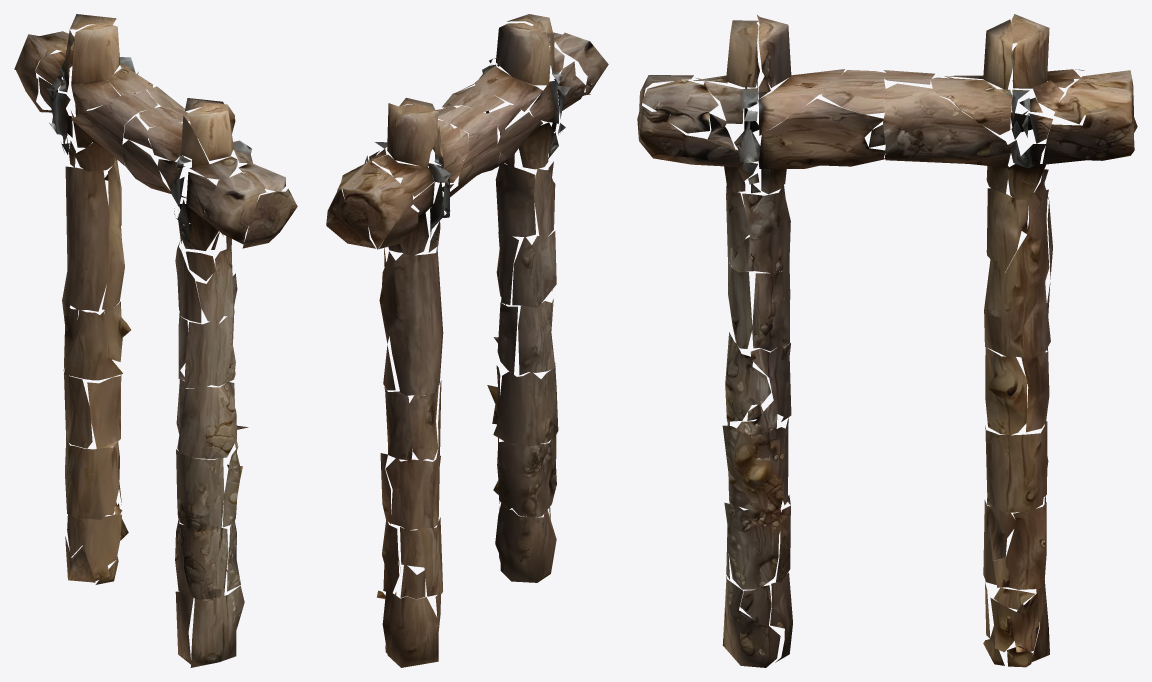
The model's file is timber.glb.
3 renders of one model, left to right at view 1: azimuth 30°, elevation 25°; view 2: azimuth 150°, elevation 25°; view 3: azimuth 270°, elevation 25°, orthographic. The views are drawn at different scales.
Visible parts, largest first — view 1: tripo_node_9f6a87ca-5507-40c1-9f33-aec29827bc2f; view 2: tripo_node_9f6a87ca-5507-40c1-9f33-aec29827bc2f; view 3: tripo_node_9f6a87ca-5507-40c1-9f33-aec29827bc2f.
Part boxes in pixels (bbox=[...]): tripo_node_9f6a87ca-5507-40c1-9f33-aec29827bc2f: bbox=[14, 14, 297, 667]; tripo_node_9f6a87ca-5507-40c1-9f33-aec29827bc2f: bbox=[326, 14, 608, 667]; tripo_node_9f6a87ca-5507-40c1-9f33-aec29827bc2f: bbox=[637, 14, 1137, 667].
Size of the model in its own units: 0.1648 by 1.01 by 0.7194.
Materials: 1 (1 with a texture image).
